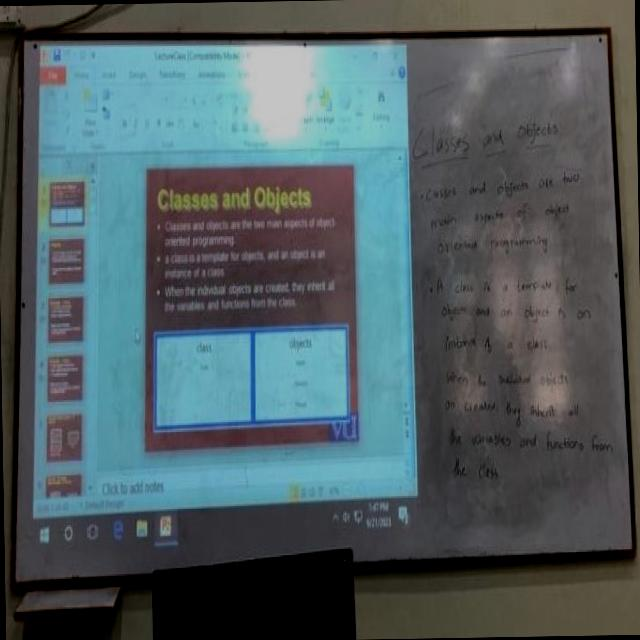Slide: (32, 43, 418, 565)
White-board: (11, 27, 635, 585)
